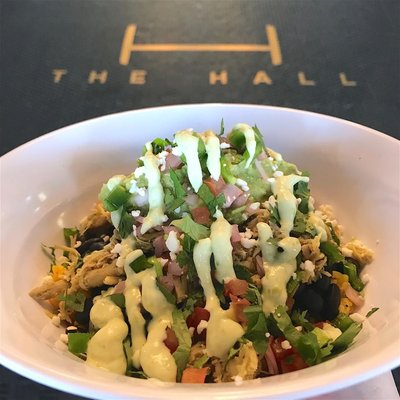sushi: (1, 100, 398, 398)
